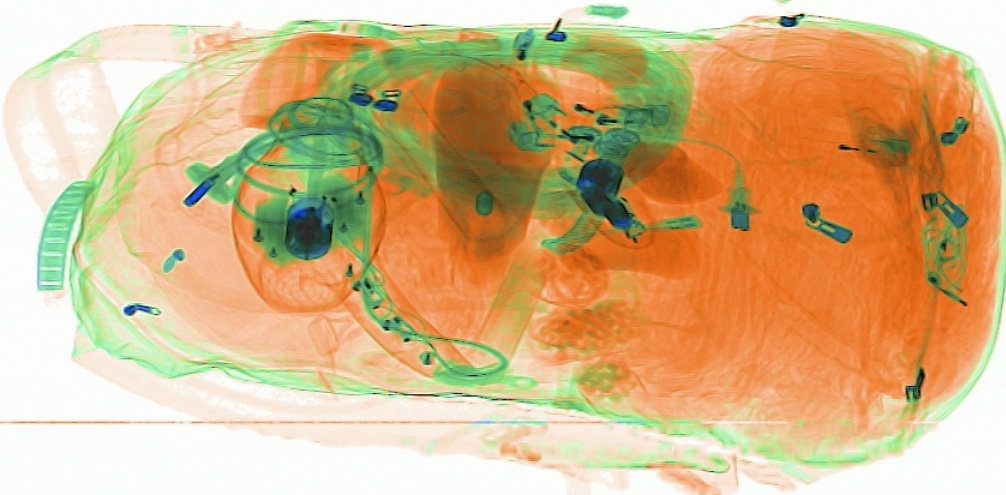lighter: (542, 83, 650, 142), (520, 91, 609, 160), (787, 122, 911, 165), (491, 71, 540, 151), (506, 29, 537, 90)
